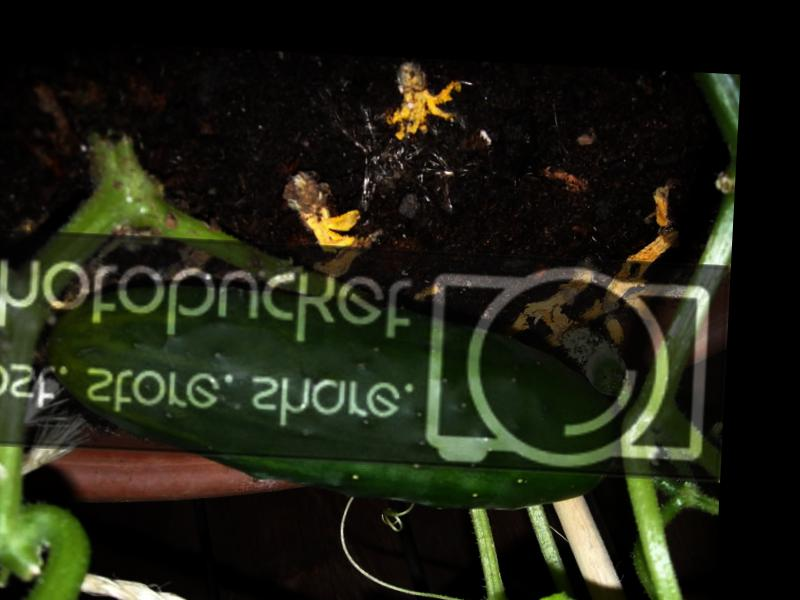Cucumber: (41, 273, 622, 514)
